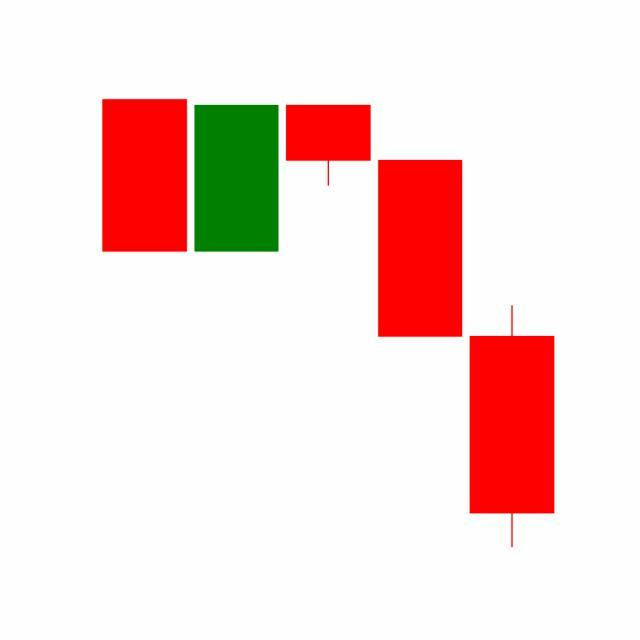Marubozu: (374, 158, 468, 339)
